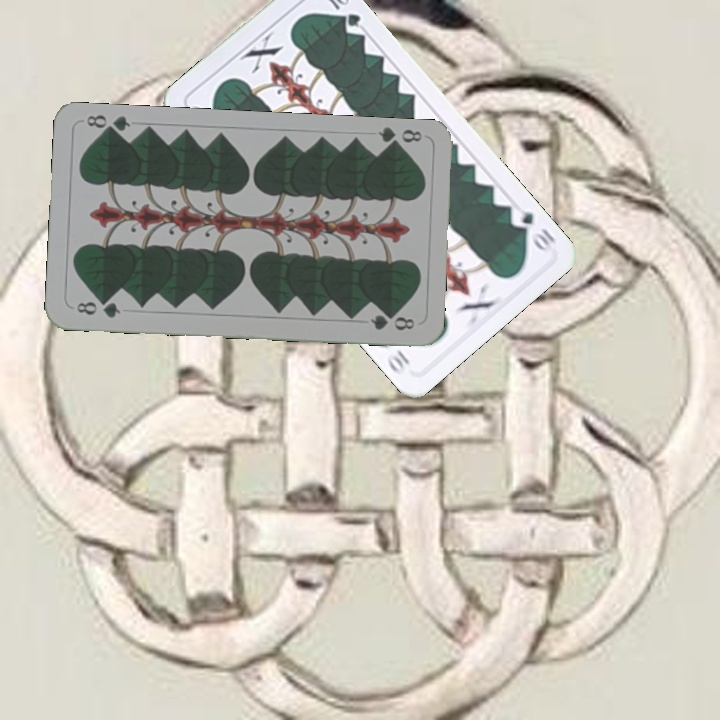G10: (505, 201, 560, 255)
G8: (374, 124, 424, 152), (72, 296, 123, 321)
